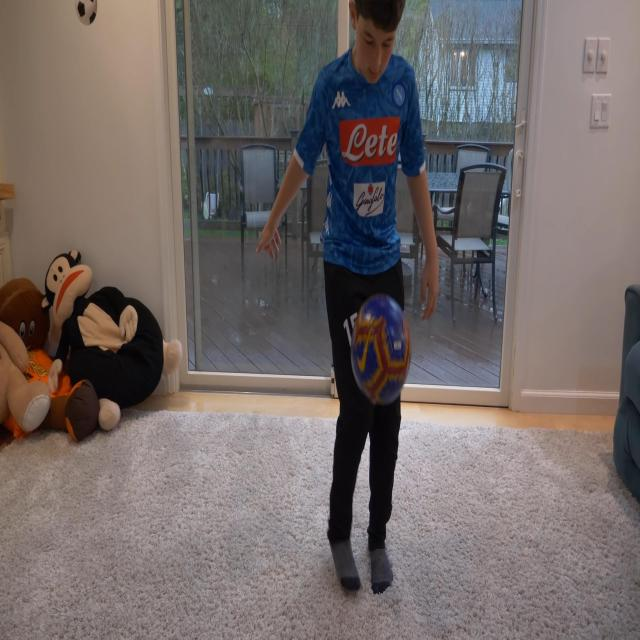Soccer Ball: (352, 293, 412, 409)
